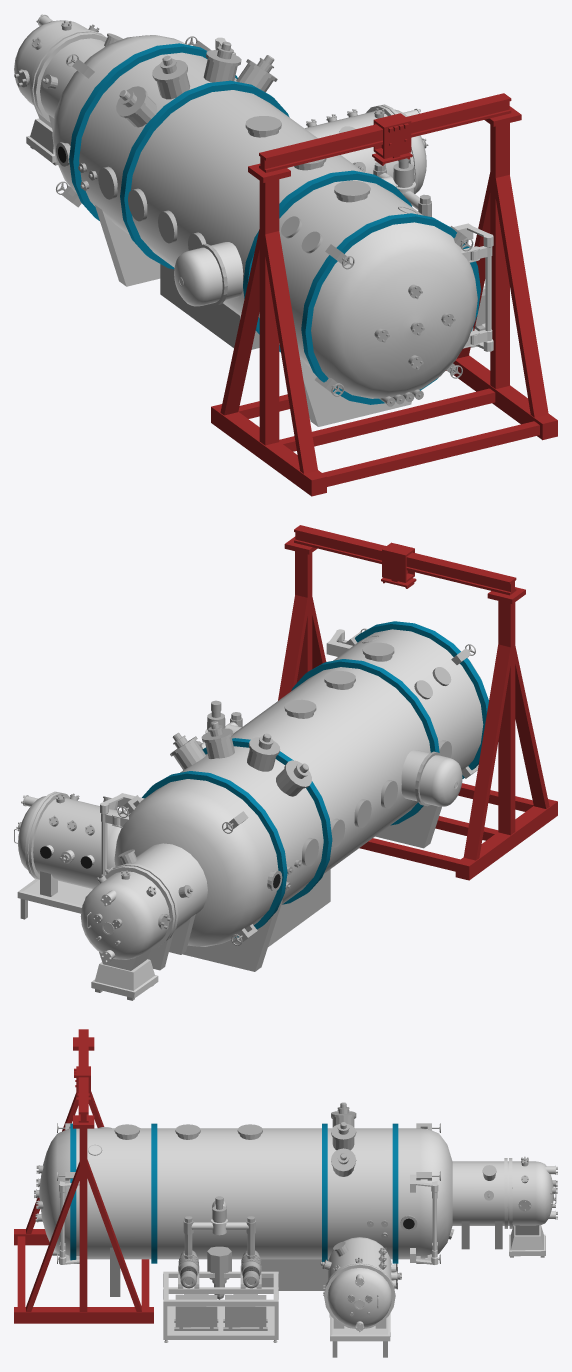
3 renders of one model, top to bottom at view 1: azimuth 30°, elevation 25°; view 2: azimuth 150°, elevation 25°; view 3: azimuth 270°, elevation 25°, orthographic. The views are drawn at different scales.
Parts seen in each view (by area): view 1: SK01; view 2: SK01; view 3: SK01.
Part boxes in pixels (x1,y1,x2,y2): SK01: (14, 14, 557, 496); SK01: (14, 525, 557, 1000); SK01: (14, 1029, 557, 1357).
Bounding box in the file's own units: 425 × 345 × 789.
